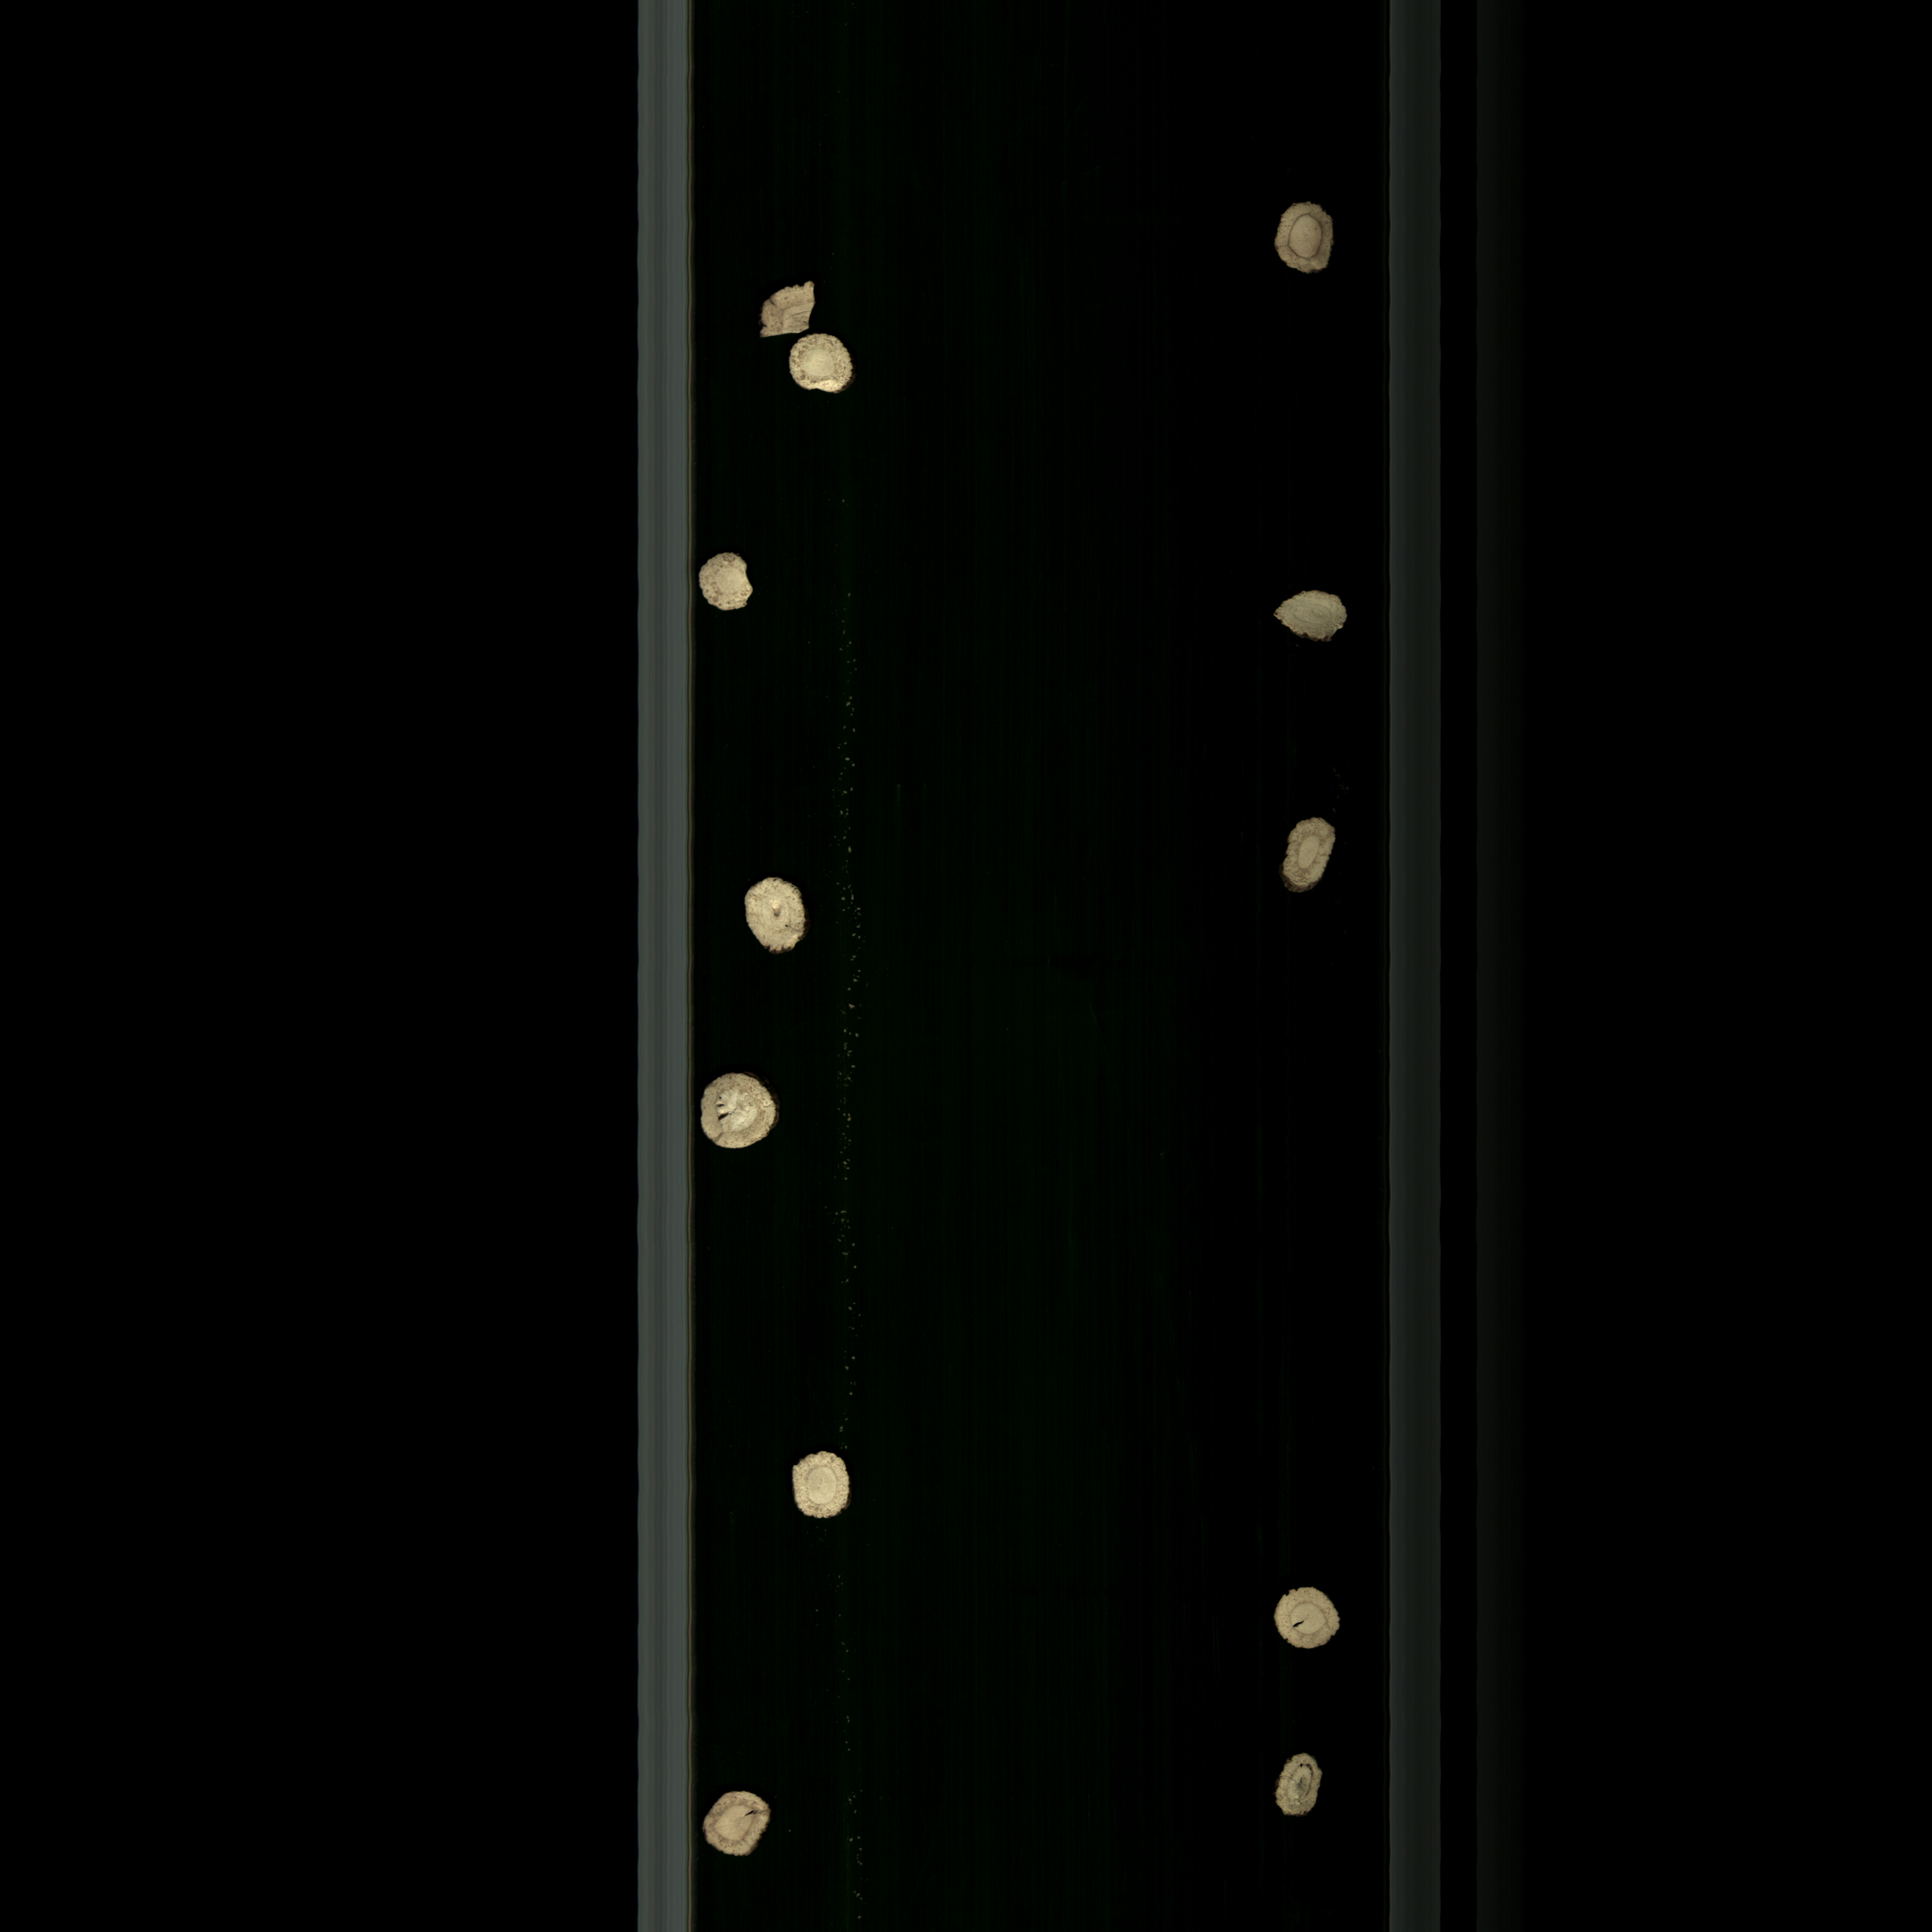debris: (1260, 582, 1362, 651)
hole: (697, 1069, 787, 1154), (734, 878, 821, 959)
moldy: (697, 1782, 778, 1867), (786, 336, 870, 412), (1265, 1575, 1345, 1654), (1269, 195, 1338, 283), (1281, 803, 1338, 897), (743, 276, 828, 336), (688, 556, 764, 617), (1272, 1743, 1327, 1828)
